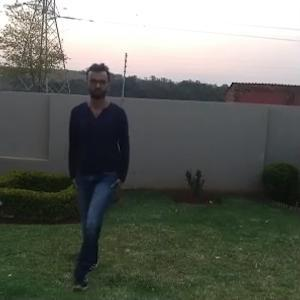follow: (67, 57, 132, 277)
